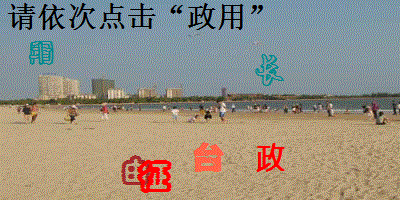result: (186, 2, 246, 31)
text: (135, 158, 175, 195), (254, 52, 286, 89), (191, 142, 225, 174), (254, 142, 286, 175), (119, 155, 148, 187), (27, 39, 57, 67)
